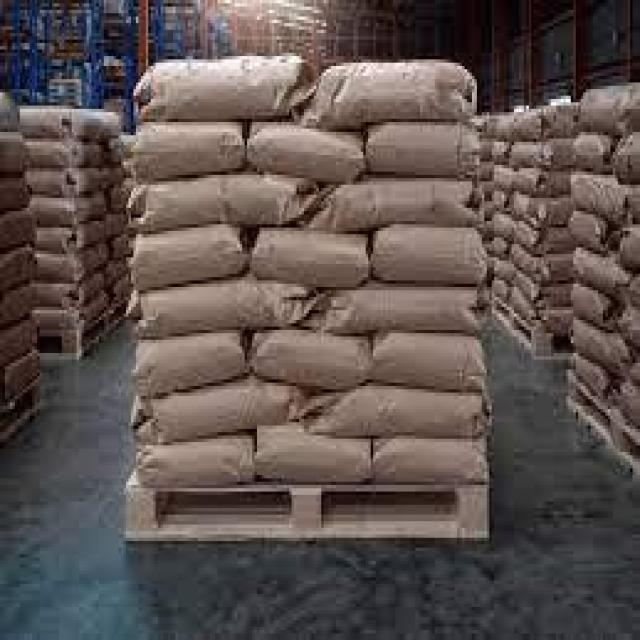gunny_bag: (321, 61, 458, 130), (148, 56, 294, 120), (152, 384, 293, 444), (134, 323, 245, 399), (150, 280, 284, 340), (313, 391, 472, 441), (140, 219, 242, 295), (319, 179, 468, 231), (138, 179, 285, 231), (315, 286, 477, 333), (373, 321, 473, 396), (251, 120, 356, 189), (143, 434, 254, 495), (376, 227, 479, 292), (260, 233, 362, 290), (135, 123, 235, 181), (260, 330, 371, 382), (371, 123, 471, 177), (381, 434, 483, 486), (268, 422, 362, 474), (570, 167, 628, 222), (42, 288, 109, 335), (572, 248, 627, 300), (42, 241, 107, 285), (571, 326, 631, 373), (33, 193, 107, 227), (577, 89, 637, 130), (1, 314, 40, 373), (34, 141, 103, 170), (518, 271, 567, 311), (567, 281, 610, 326), (516, 108, 576, 139), (512, 226, 566, 259), (0, 247, 38, 292), (568, 132, 613, 167), (566, 214, 607, 252), (520, 170, 568, 198), (4, 210, 36, 252), (490, 163, 519, 194)
